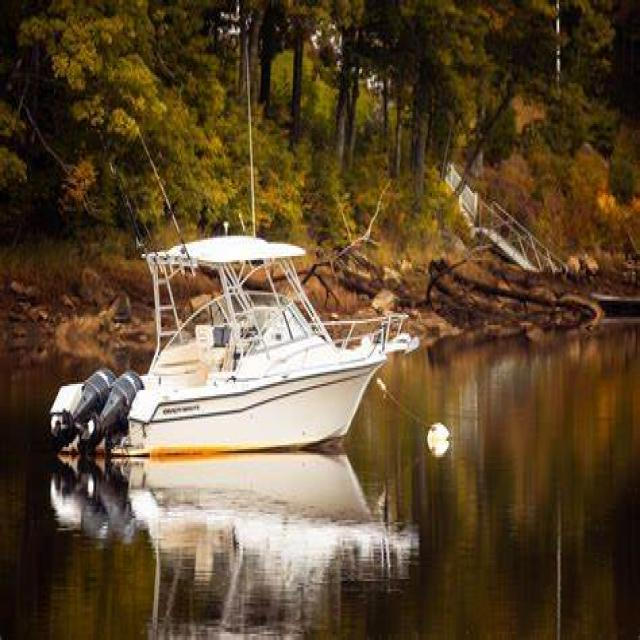Fishing Boat: (70, 135, 337, 431)
